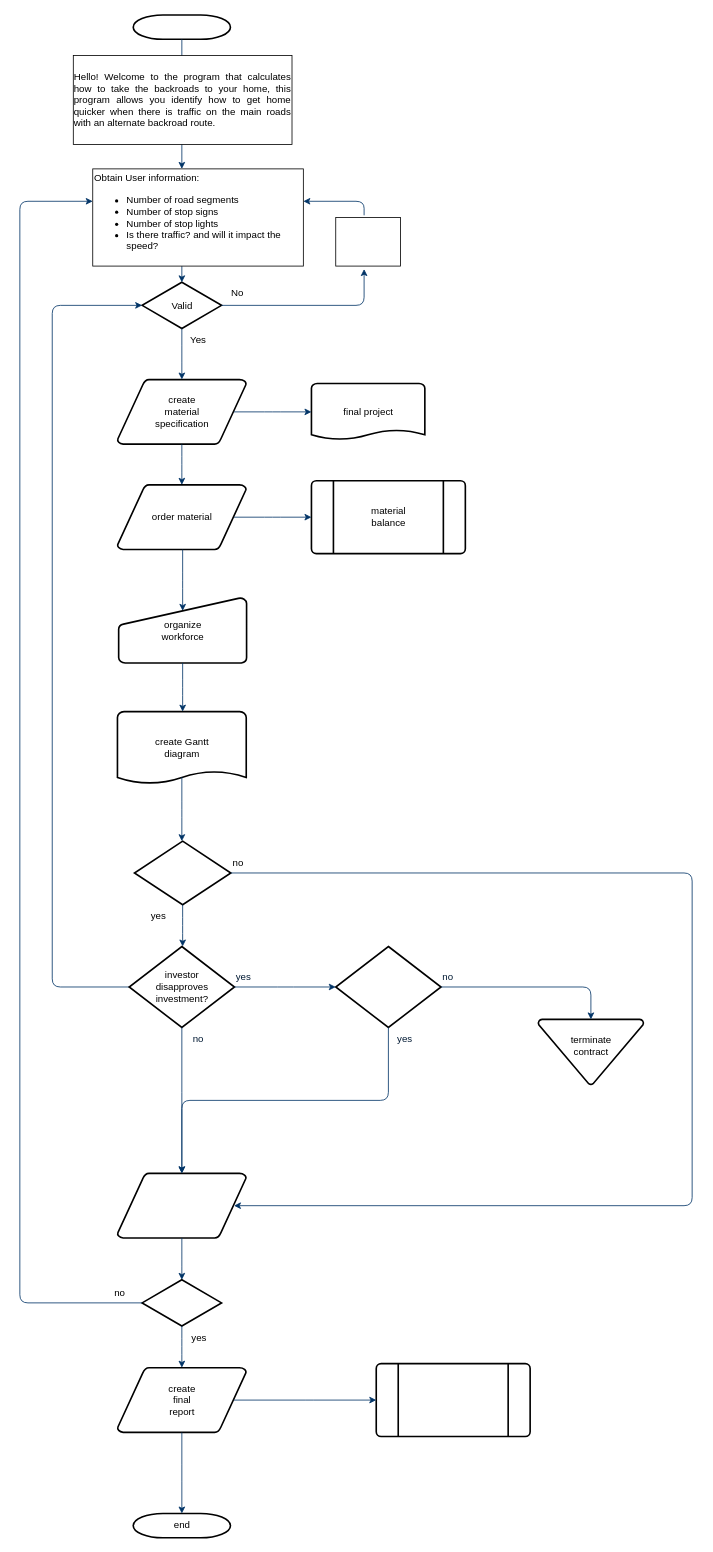
This 713x1552 diagram has some shape labels left out. The shapes that lost their labels are listed below. From the top down, each one's centre as x and y in pixels, then its label:
the point at 181,27: start
the point at 368,241: Error Message
the point at 182,872: late project changes?
the point at 388,986: agreement?
the point at 181,1205: create status report
the point at 181,1302: project complete?
the point at 453,1399: issue bill of works
